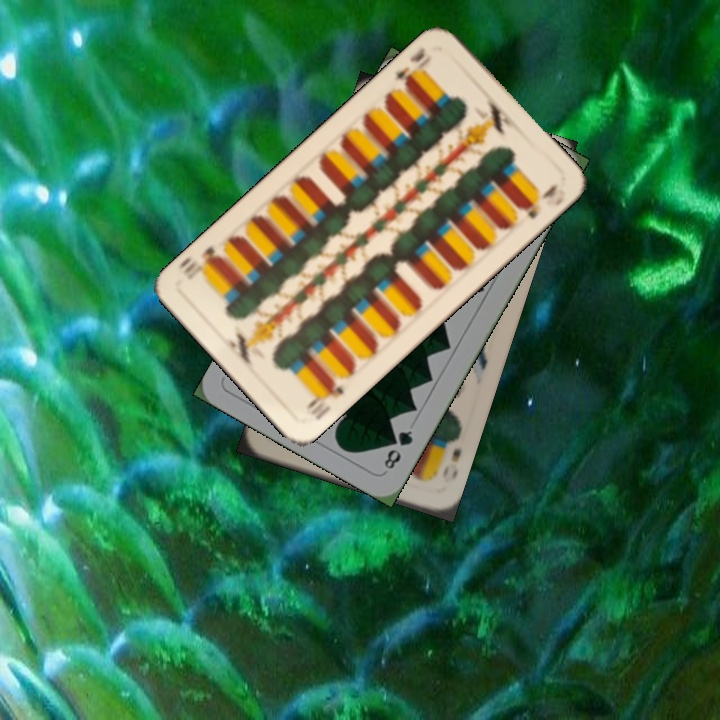E10: (302, 376, 347, 423), (391, 43, 428, 93)
EO: (438, 444, 464, 486)
G8: (380, 426, 416, 472)
